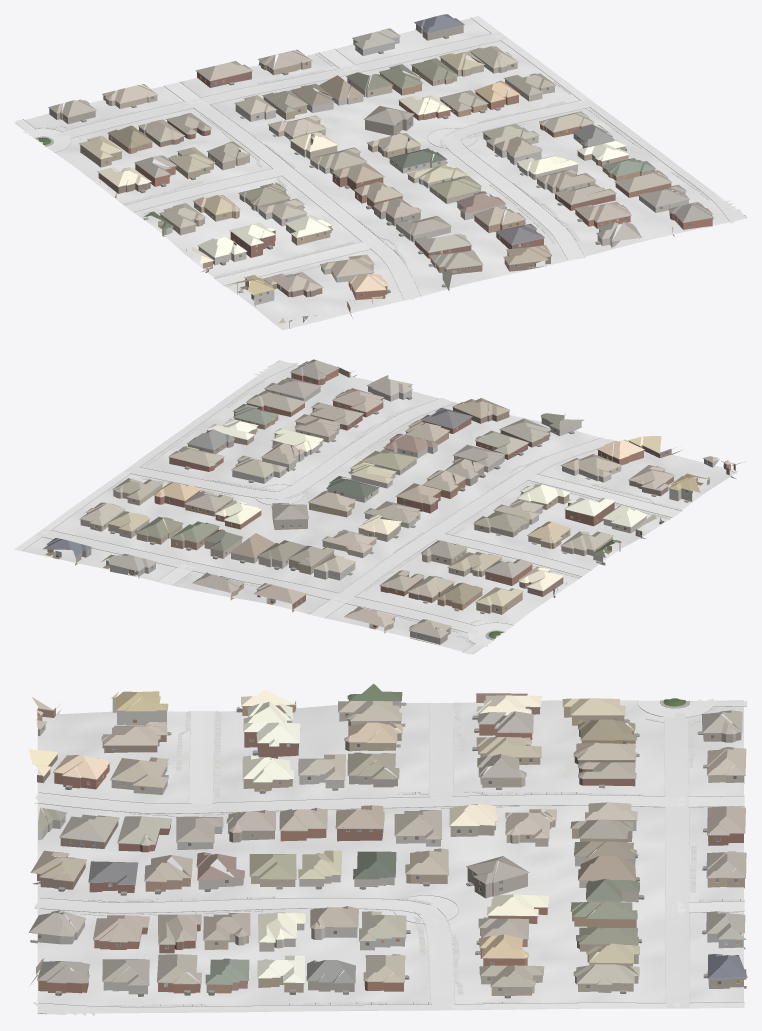
The picture shows the model from 3 angles, top to bottom: view 1: azimuth 30°, elevation 25°; view 2: azimuth 150°, elevation 25°; view 3: azimuth 270°, elevation 25°; orthographic projection. The views are drawn at different scales.
Parts seen in each view (by area): view 1: ground, roof, concrete, wall, detail, curb, wall_stone, walk, wall_stucco, glass; view 2: roof, ground, concrete, wall, detail, wall_stone, curb, walk, wall_stucco, glass; view 3: ground, roof, concrete, wall, detail, walk, wall_stone, curb, wall_stucco, glass.
Boxes of the visible parts, <box> form: ground: <box>14,18,747,330</box>; roof: <box>48,14,713,323</box>; concrete: <box>15,16,745,299</box>; wall: <box>49,24,712,328</box>; detail: <box>35,22,713,320</box>; curb: <box>23,18,746,299</box>; wall_stone: <box>162,90,620,306</box>; walk: <box>34,53,711,286</box>; wall_stucco: <box>269,37,688,322</box>; glass: <box>65,48,690,305</box>; roof: <box>43,359,742,638</box>; ground: <box>22,360,737,654</box>; concrete: <box>14,360,681,654</box>; wall: <box>47,366,735,644</box>; detail: <box>46,366,736,639</box>; wall_stone: <box>231,385,692,580</box>; curb: <box>22,360,681,652</box>; walk: <box>107,380,682,644</box>; wall_stucco: <box>110,387,719,578</box>; glass: <box>104,379,709,631</box>; ground: <box>37,700,743,1014</box>; roof: <box>29,683,747,986</box>; concrete: <box>32,698,747,1016</box>; wall: <box>30,693,746,993</box>; detail: <box>29,694,747,998</box>; walk: <box>80,702,744,1006</box>; wall_stone: <box>30,697,636,951</box>; curb: <box>34,700,746,1014</box>; wall_stucco: <box>38,724,745,995</box>; glass: <box>38,703,737,991</box>.
Bounding box in the file's own units: 258 × 15.45 × 260.
